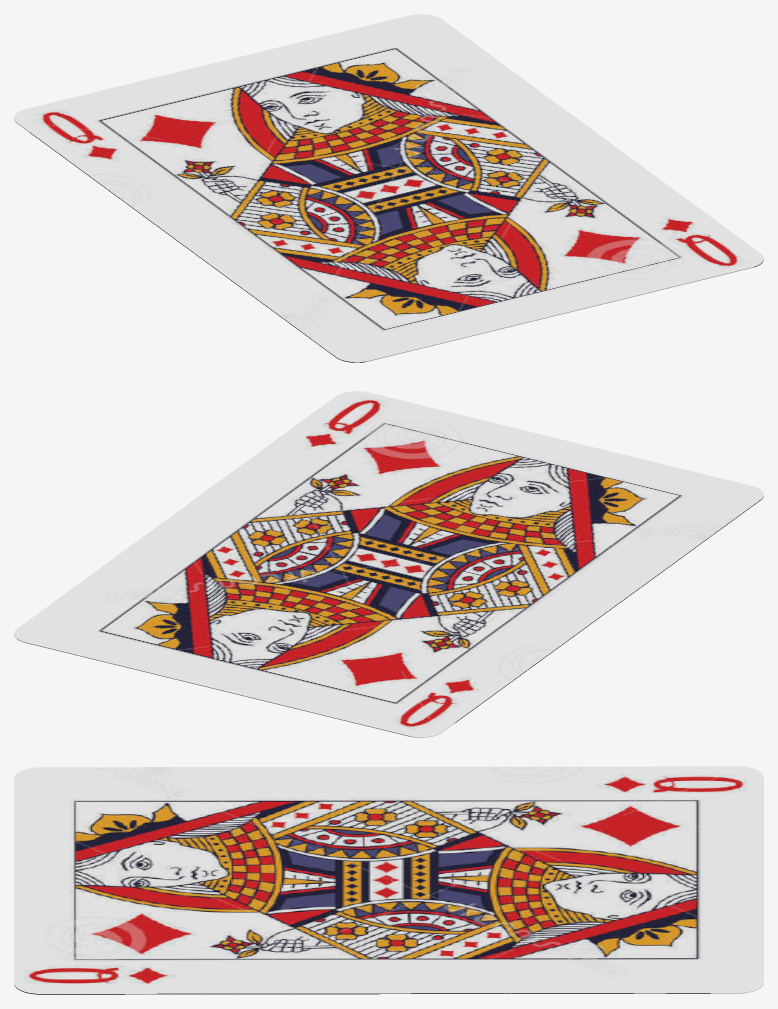
File: Card_QD.gltf
3 views of the same model, one above another, from view 1: azimuth 30°, elevation 25°; view 2: azimuth 150°, elevation 25°; view 3: azimuth 270°, elevation 25° (orthographic). The views are drawn at different scales.
Visible parts, largest first — view 1: CardP; view 2: CardP; view 3: CardP.
Part boxes in pixels (box(x1,y1,x2,y2)): CardP: box(14, 14, 763, 362); CardP: box(14, 391, 763, 737); CardP: box(14, 766, 763, 994).
Size of the model in its own units: 0.0635 by 0.00021 by 0.0888.
Materials: 2 (2 with a texture image).
